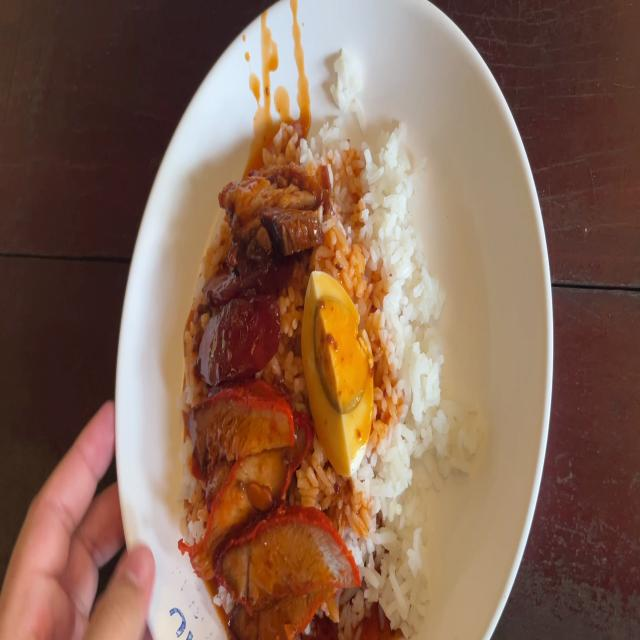01boiled_egg: (307, 273, 374, 480)
01chainese_sausage: (202, 259, 285, 368)
01crispy_pork: (219, 164, 330, 242)
01red_pork: (197, 391, 323, 638)
01red_pork_and_crispy_pork: (188, 115, 446, 640)
01rice: (330, 126, 423, 279), (375, 279, 439, 493), (352, 487, 422, 632)
